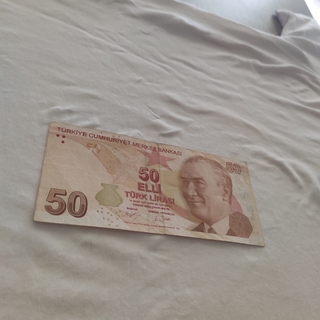50TLFront: (32, 123, 265, 247)
